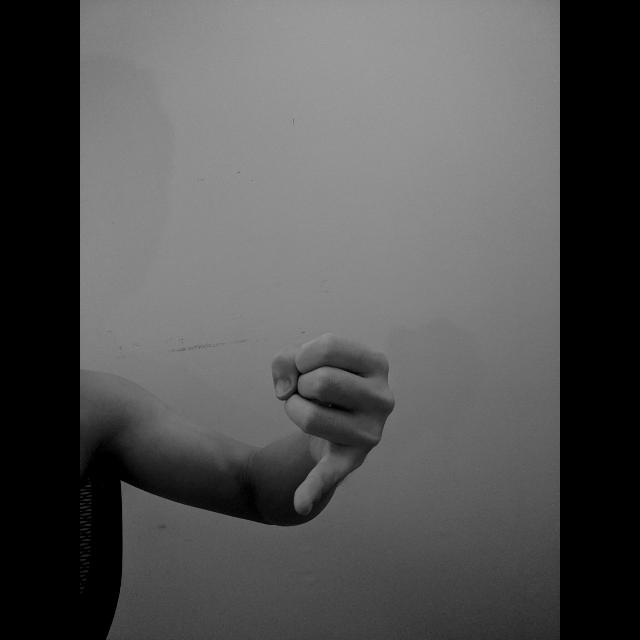J: (263, 327, 405, 525)
